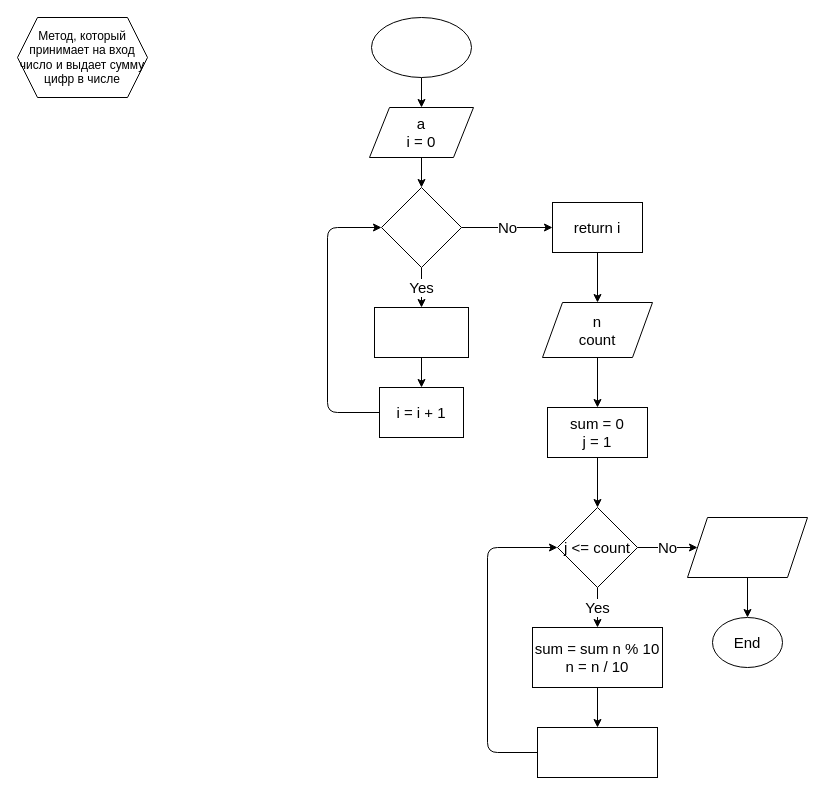
Some shapes in this 825 by 795 pixel diagram are drawn without their labels. Each missing label, with the centre of its shape:
a = a / 10: [421,332]
a > 0: [421,227]
j = j + 1: [597,752]
Start: [421,47]
sum: [747,547]
